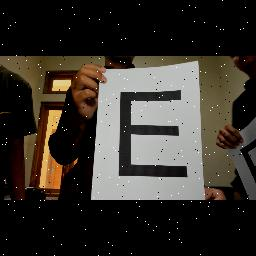e: (111, 86, 195, 182)
